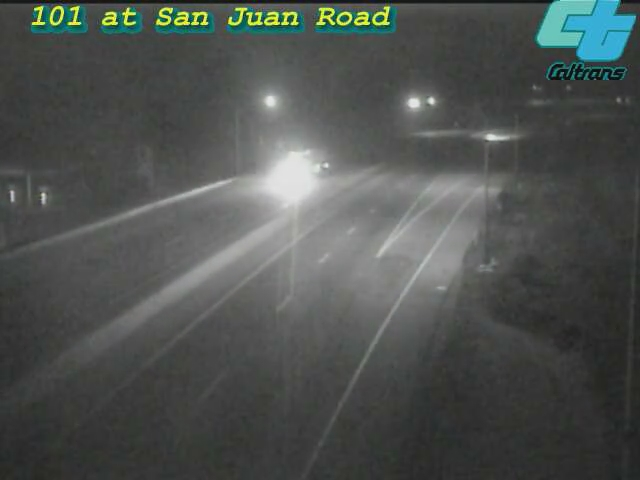vehicle: (257, 130, 337, 210), (467, 113, 517, 163)
